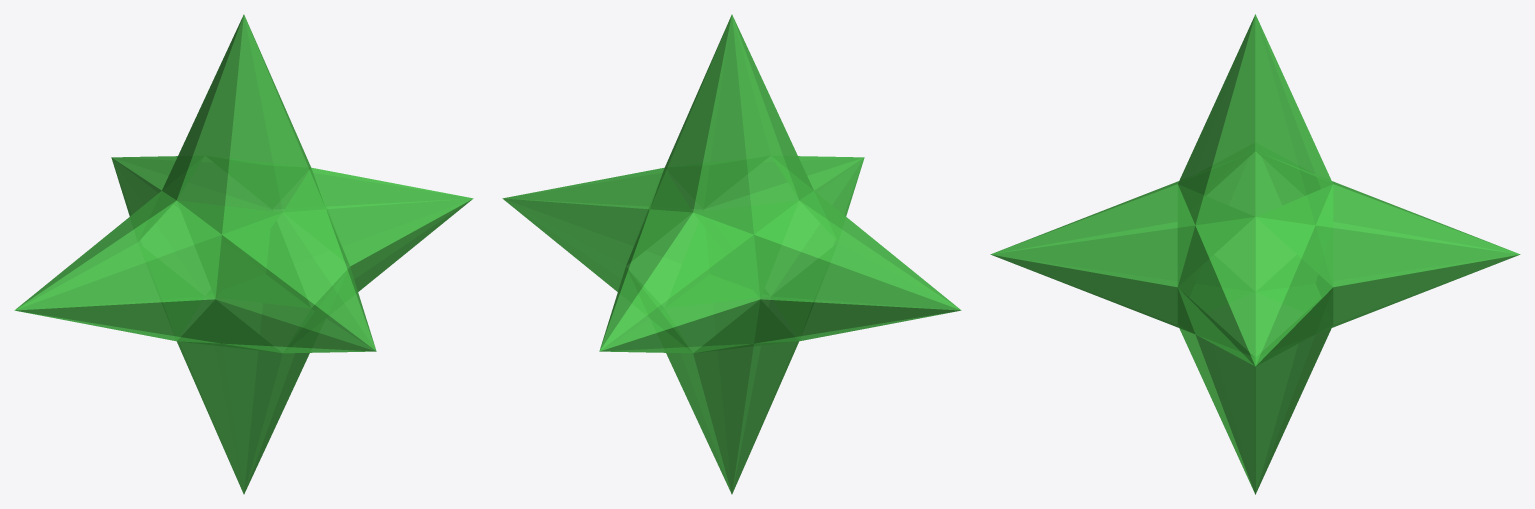
The model's file is SmallRhombihexacron.obj.
3 renders of one model, left to right at view 1: azimuth 30°, elevation 25°; view 2: azimuth 150°, elevation 25°; view 3: azimuth 270°, elevation 25°, orthographic.
Bounding box in the file's own units: 6.83 × 6.83 × 6.83.
